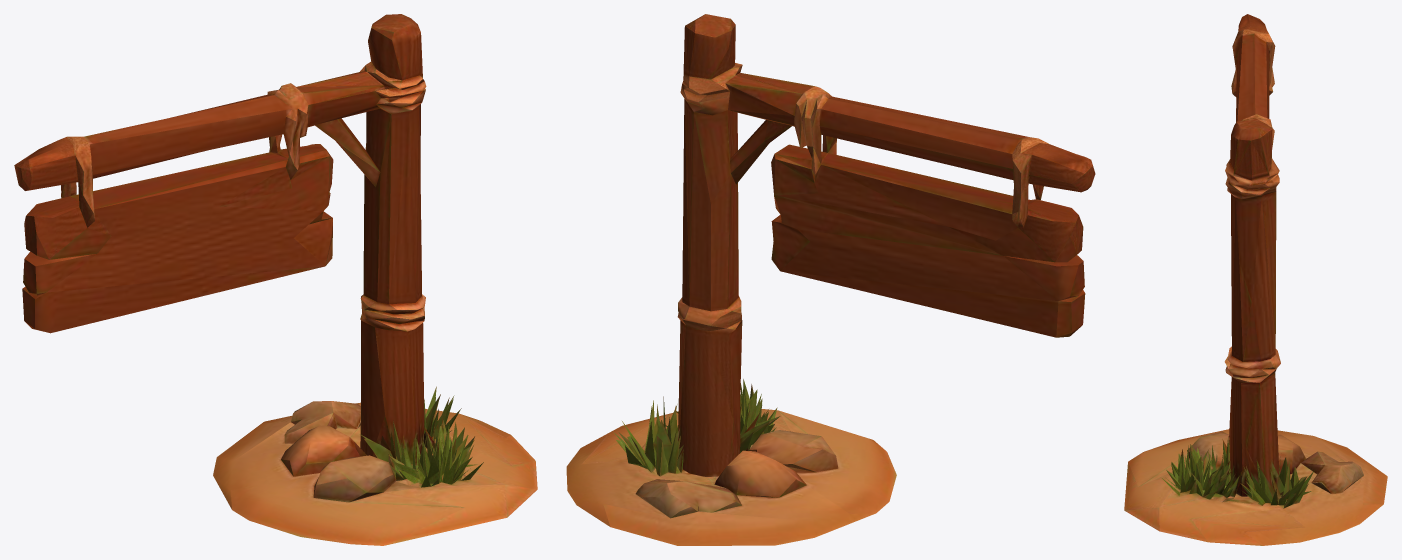
The model's file is west_sign_wood.glb.
3 views of the same model, side by side, from view 1: azimuth 30°, elevation 25°; view 2: azimuth 150°, elevation 25°; view 3: azimuth 270°, elevation 25° (orthographic). The views are drawn at different scales.
Visible parts, largest first — view 1: mesh_node; view 2: mesh_node; view 3: mesh_node.
Part boxes in pixels (x1,y1,x2,y2): mesh_node: (14,14,537,545); mesh_node: (566,14,1095,545); mesh_node: (1124,14,1387,545).
Size of the model in its own units: 1.9 by 1.64 by 1.05.
1 material, 1 textured.
